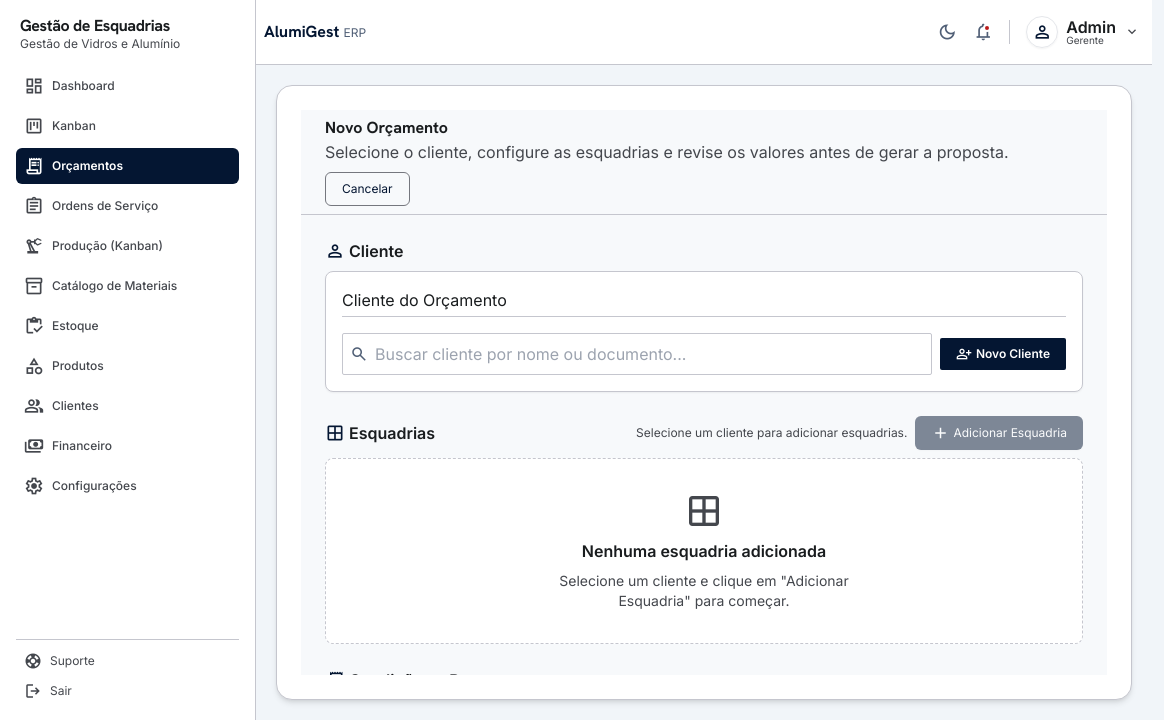
Test: Integridade das Rotas de Orçamentos (AppRoutes) › Fluxos de navegação integrada entre rotas › deve navegar de /orcamentos/novo de volta para /orcamentos ao clicar em "Cancelar"
This screenshot has width=1164, height=720.
Click the button "Cancelar".
click(367, 189)  # box 325,172 -> 410,206
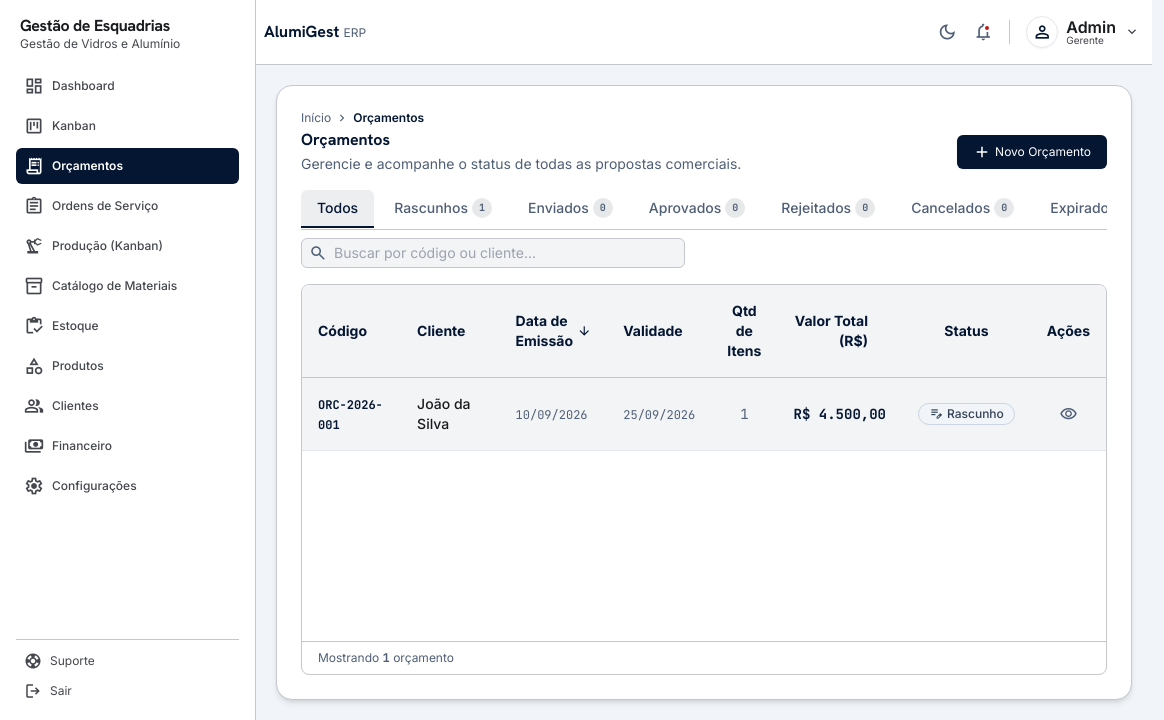
expect the heading "Orçamentos" is shown: met, box 301,129 -> 390,150
